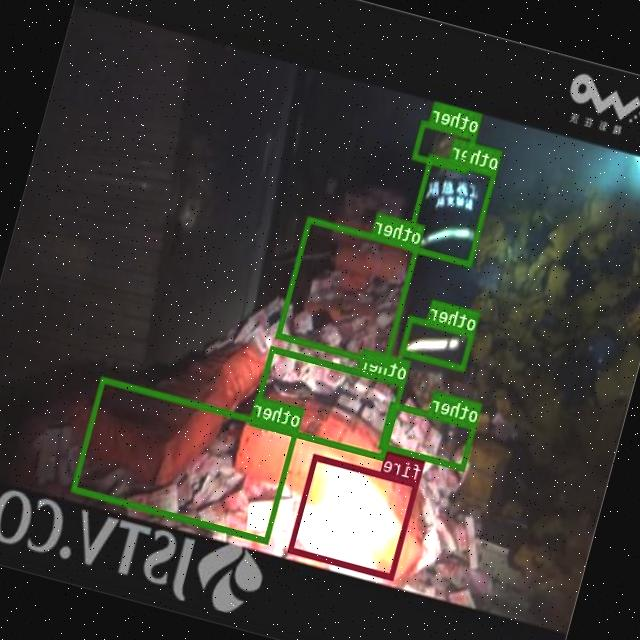fire: (288, 453, 421, 580)
